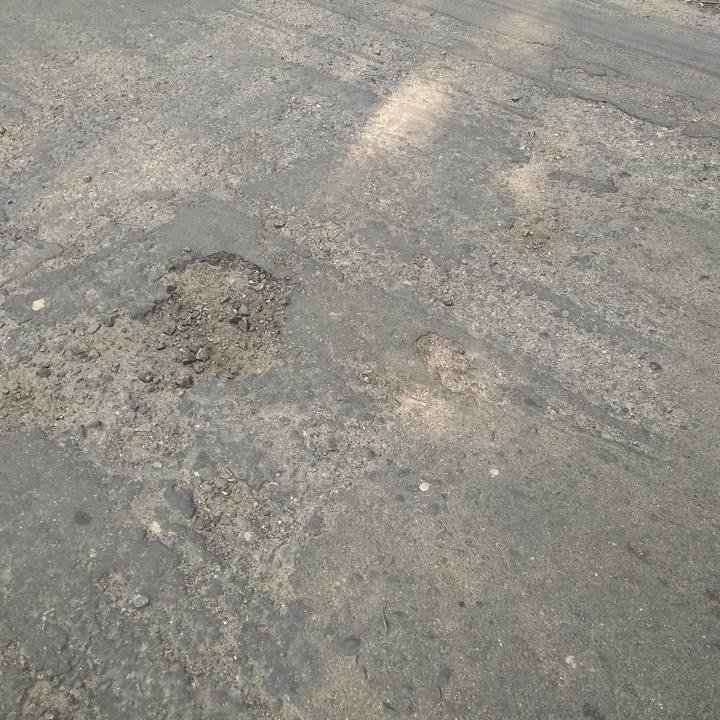pothole: (136, 246, 301, 377), (188, 472, 314, 607), (410, 328, 473, 391)
